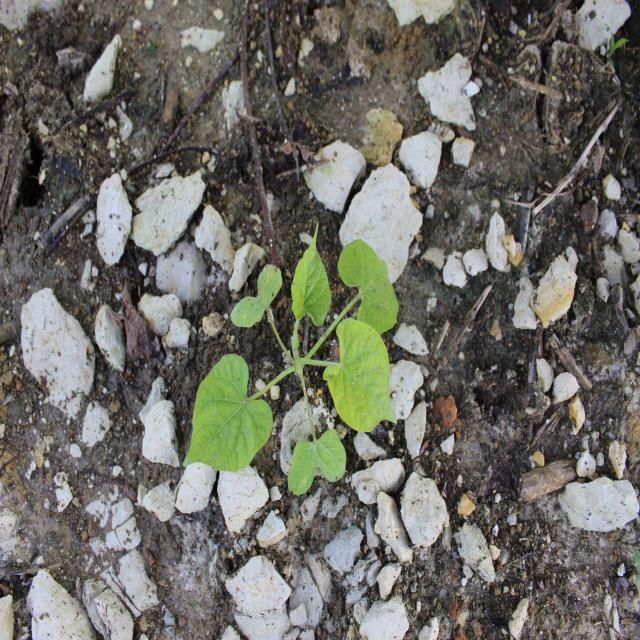MorningGlory: (182, 218, 400, 496)
